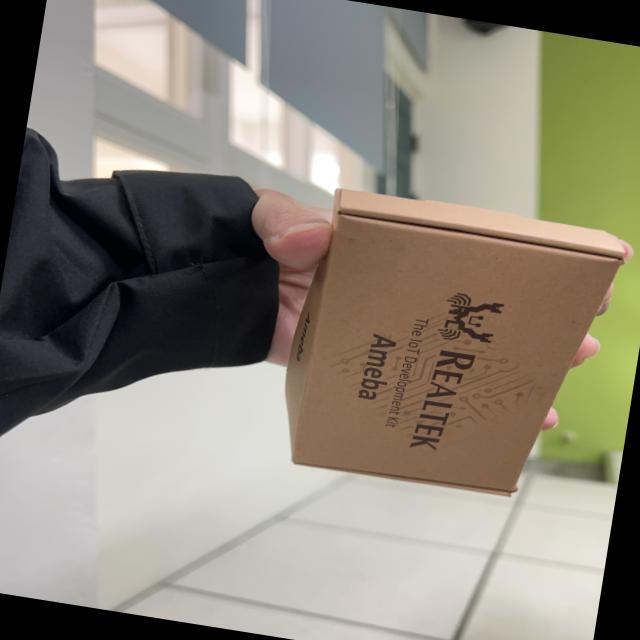box: (261, 164, 632, 525)
